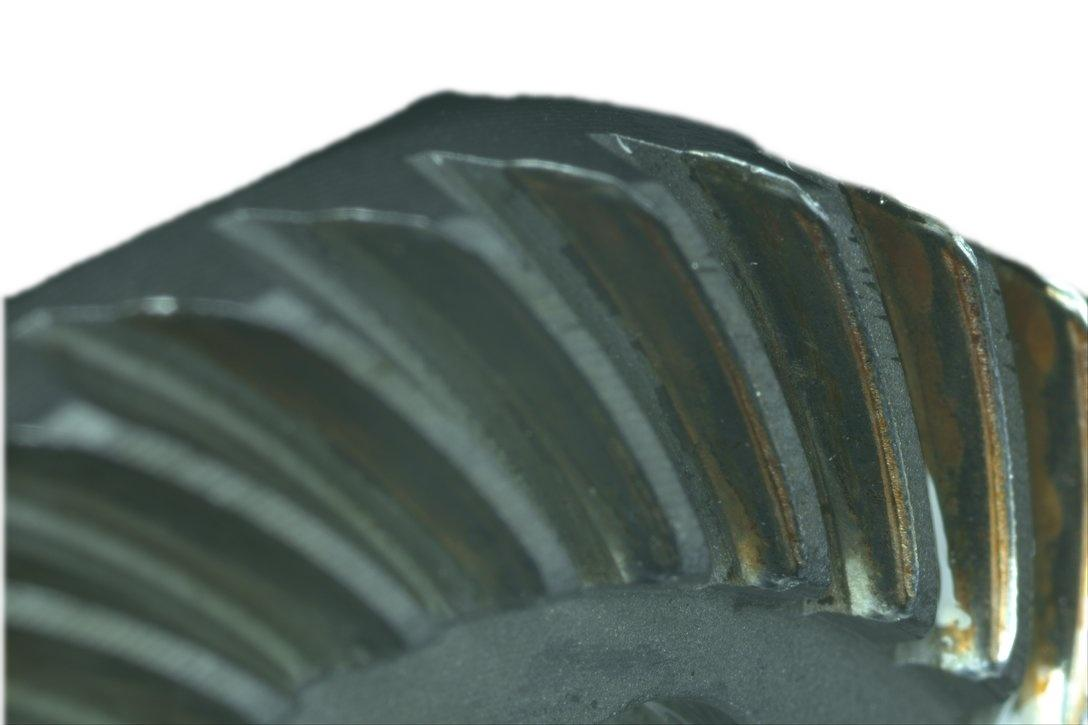defect: (316, 200, 694, 593), (498, 153, 805, 593), (700, 152, 921, 627), (875, 202, 1026, 680), (1011, 268, 1087, 691)
